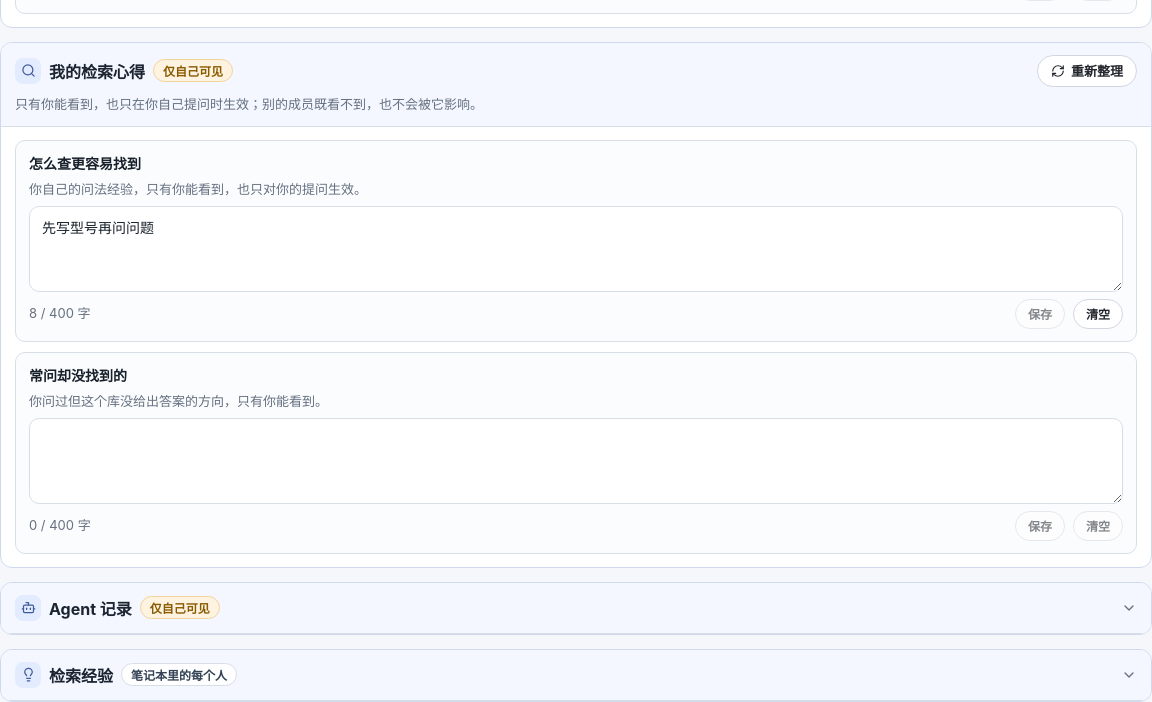
it: Agent 记录：条数未达服务端上限时不显示「仅显示最近」提示
(page scrolled)
Click the text "Agent 记录" at {"x": 90, "y": 608}, box [49,596,132,620]
(page scrolled)
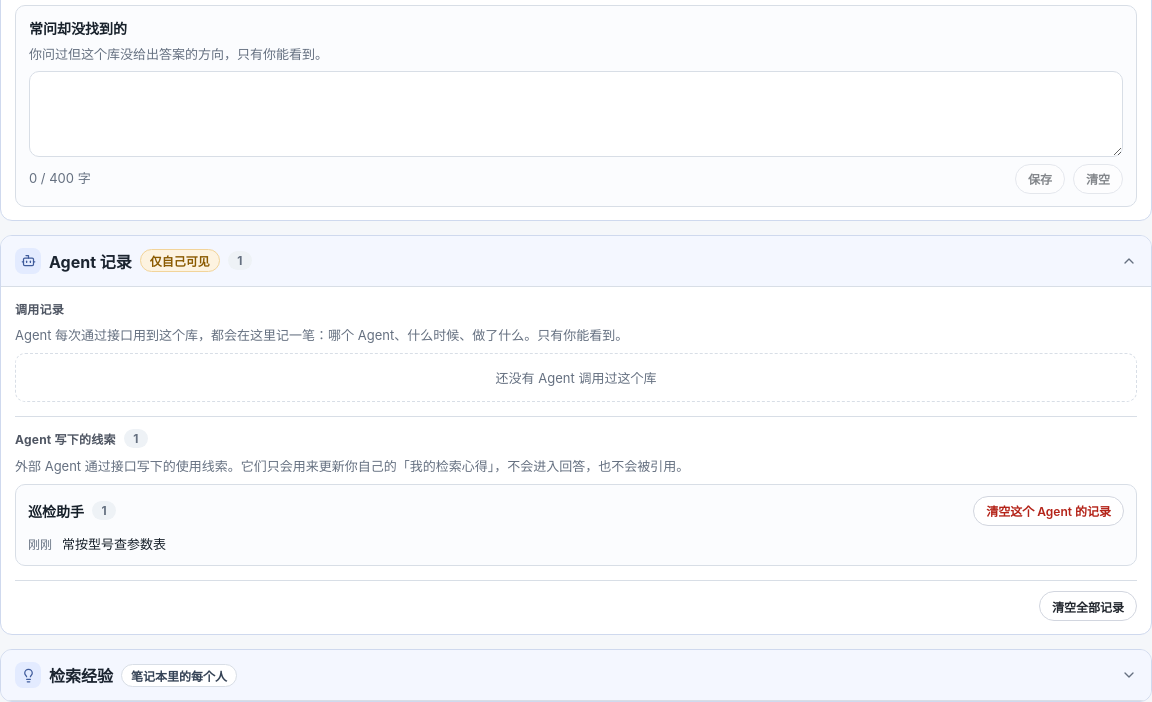
Expected: the text "巡检助手" is shown, [28,501,84,521]
